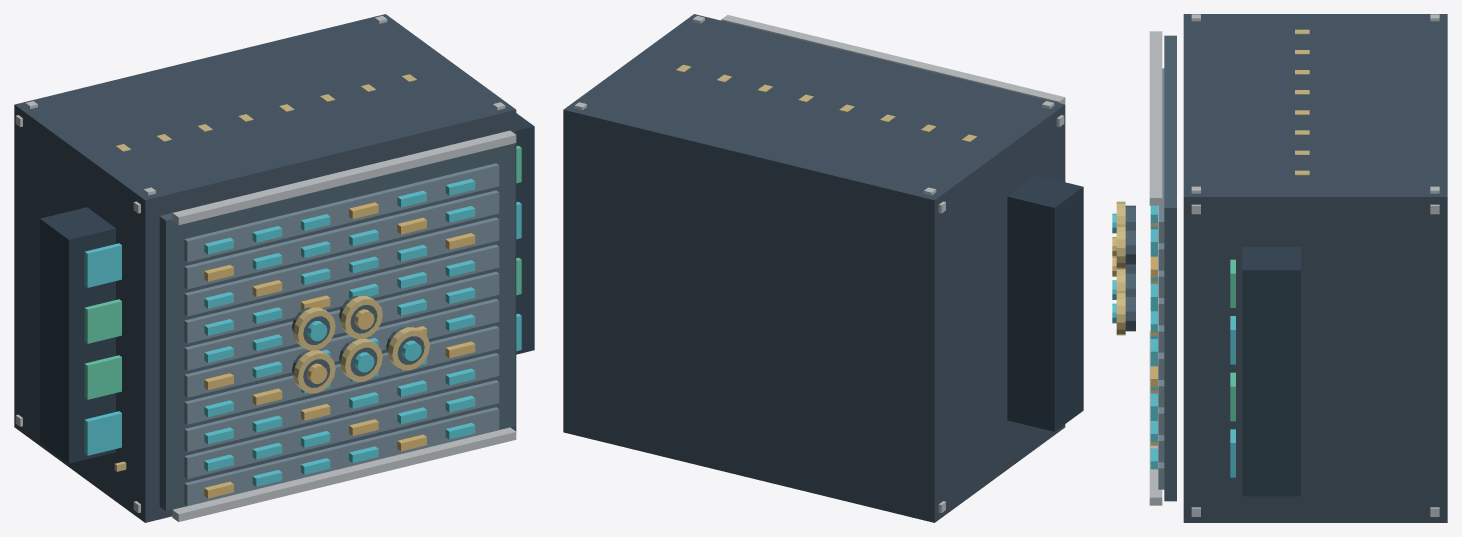
Rendered from 56_L81_CriticalECCFeedbackSupervisor.glb.
3 renders of one model, left to right at view 1: azimuth 30°, elevation 25°; view 2: azimuth 150°, elevation 25°; view 3: azimuth 270°, elevation 25°, orthographic.
Parts seen in each view (by area): view 1: CriticalECCFeedbackSupervisor_Node_0000, CriticalECCFeedbackSupervisor_Node_0009, CriticalECCFeedbackSupervisor_Node_0090, CriticalECCFeedbackSupervisor_Node_0024, CriticalECCFeedbackSupervisor_Node_0073, CriticalECCFeedbackSupervisor_Node_0059, CriticalECCFeedbackSupervisor_Node_0010, CriticalECCFeedbackSupervisor_Node_0017, CriticalECCFeedbackSupervisor_Node_0066, CriticalECCFeedbackSupervisor_Node_0052, CriticalECCFeedbackSupervisor_Node_0081, CriticalECCFeedbackSupervisor_Node_0080 (+12 smaller); view 2: CriticalECCFeedbackSupervisor_Node_0000, CriticalECCFeedbackSupervisor_Node_0090, CriticalECCFeedbackSupervisor_Node_0081; view 3: CriticalECCFeedbackSupervisor_Node_0000, CriticalECCFeedbackSupervisor_Node_0090, CriticalECCFeedbackSupervisor_Node_0009, CriticalECCFeedbackSupervisor_Node_0081, CriticalECCFeedbackSupervisor_Node_0080, CriticalECCFeedbackSupervisor_Node_0073, CriticalECCFeedbackSupervisor_Node_0136, CriticalECCFeedbackSupervisor_Node_0142, CriticalECCFeedbackSupervisor_Node_0135, CriticalECCFeedbackSupervisor_Node_0141.
Part boxes in pixels (<box>): CriticalECCFeedbackSupervisor_Node_0000: <box>14,14,516,522</box>; CriticalECCFeedbackSupervisor_Node_0009: <box>159,143,514,510</box>; CriticalECCFeedbackSupervisor_Node_0090: <box>40,113,534,463</box>; CriticalECCFeedbackSupervisor_Node_0024: <box>184,353,499,451</box>; CriticalECCFeedbackSupervisor_Node_0073: <box>184,163,499,262</box>; CriticalECCFeedbackSupervisor_Node_0059: <box>184,217,499,316</box>; CriticalECCFeedbackSupervisor_Node_0010: <box>184,407,499,506</box>; CriticalECCFeedbackSupervisor_Node_0017: <box>184,380,499,478</box>; CriticalECCFeedbackSupervisor_Node_0066: <box>184,190,499,289</box>; CriticalECCFeedbackSupervisor_Node_0052: <box>184,244,499,343</box>; CriticalECCFeedbackSupervisor_Node_0081: <box>172,130,516,225</box>; CriticalECCFeedbackSupervisor_Node_0080: <box>172,427,516,521</box>; CriticalECCFeedbackSupervisor_Node_0000: <box>563,14,1065,522</box>; CriticalECCFeedbackSupervisor_Node_0090: <box>1007,175,1083,431</box>; CriticalECCFeedbackSupervisor_Node_0081: <box>721,15,1065,104</box>; CriticalECCFeedbackSupervisor_Node_0000: <box>1183,14,1447,522</box>; CriticalECCFeedbackSupervisor_Node_0090: <box>1242,247,1300,496</box>; CriticalECCFeedbackSupervisor_Node_0009: <box>1164,35,1176,501</box>; CriticalECCFeedbackSupervisor_Node_0081: <box>1149,31,1162,205</box>; CriticalECCFeedbackSupervisor_Node_0080: <box>1149,331,1162,505</box>; CriticalECCFeedbackSupervisor_Node_0073: <box>1158,68,1164,243</box>; CriticalECCFeedbackSupervisor_Node_0136: <box>1116,291,1125,335</box>; CriticalECCFeedbackSupervisor_Node_0142: <box>1116,225,1125,268</box>; CriticalECCFeedbackSupervisor_Node_0135: <box>1125,295,1135,331</box>; CriticalECCFeedbackSupervisor_Node_0141: <box>1125,229,1135,264</box>.
Size of the model in its own units: 1.48 by 0.998 by 0.9145.
